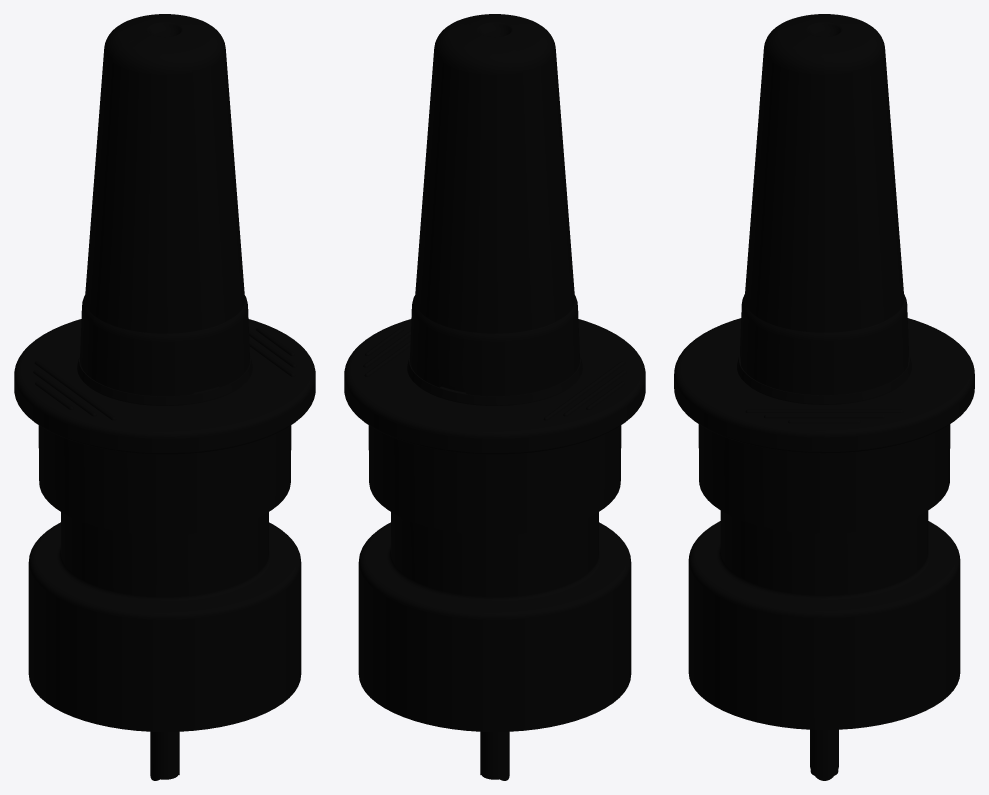
The model's file is APF-Black.glb.
3 views of the same model, side by side, from view 1: azimuth 30°, elevation 25°; view 2: azimuth 150°, elevation 25°; view 3: azimuth 270°, elevation 25° (orthographic).
Visible parts, largest first — view 1: 2510-00002-apf; view 2: 2510-00002-apf; view 3: 2510-00002-apf.
Boxes of the visible parts, bbox=[...] form: 2510-00002-apf: bbox=[14, 14, 315, 780]; 2510-00002-apf: bbox=[344, 14, 645, 780]; 2510-00002-apf: bbox=[674, 14, 974, 780].
Size of the model in its own units: 24.8 by 67.8 by 24.8.
Materials: 1 (1 with a texture image).
